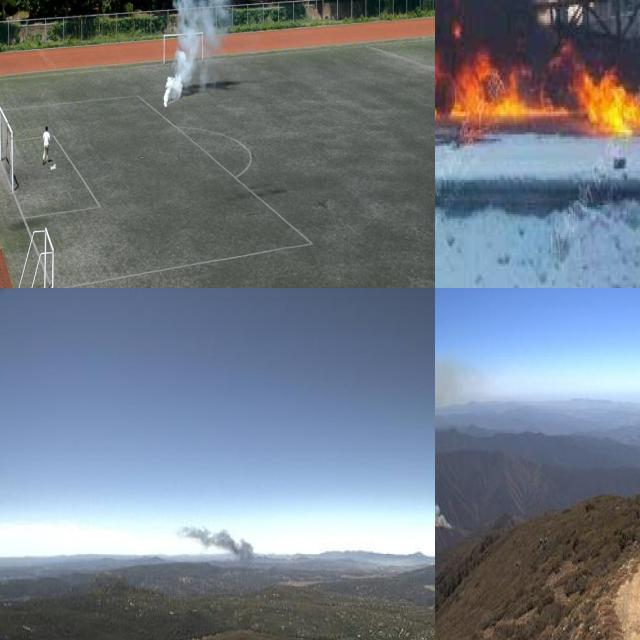fire: (435, 20, 640, 134)
smoke: (162, 0, 237, 106), (176, 522, 256, 571)
